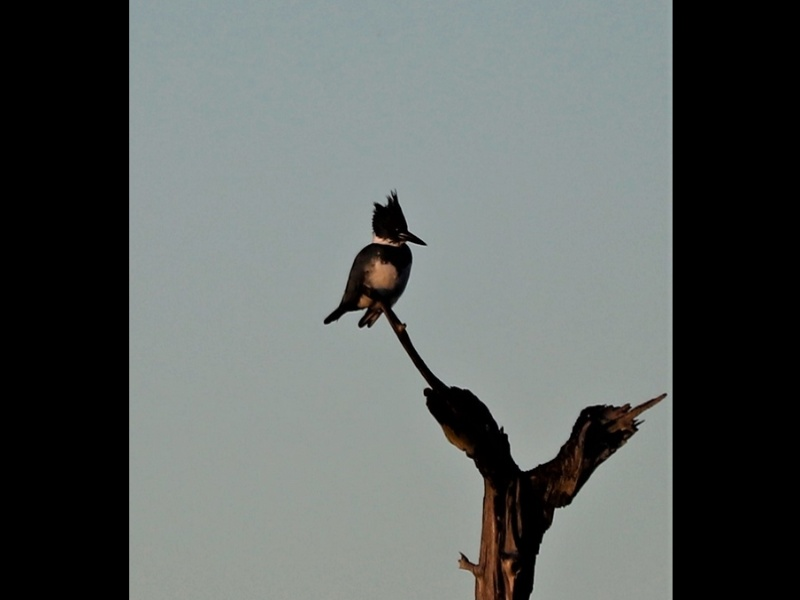kingfisher: (321, 186, 429, 330)
